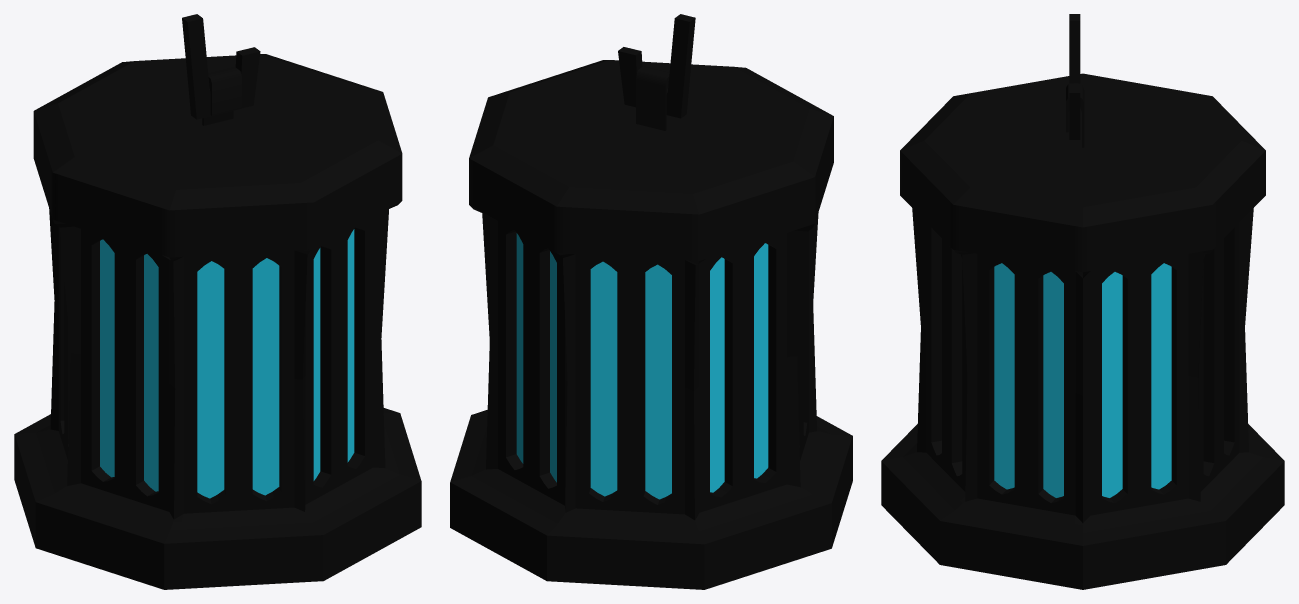
The model's file is LANTERN_MESH.fbx.
3 renders of one model, left to right at view 1: azimuth 30°, elevation 25°; view 2: azimuth 150°, elevation 25°; view 3: azimuth 270°, elevation 25°, orthographic. The views are drawn at different scales.
Visible parts, largest first — view 1: LANTERN_MESH; view 2: LANTERN_MESH; view 3: LANTERN_MESH.
Part boxes in pixels (<box>): LANTERN_MESH: <box>14,14,421,589</box>; LANTERN_MESH: <box>450,14,852,589</box>; LANTERN_MESH: <box>881,14,1284,589</box>.
Bounding box in the file's own units: 1.59 × 2.11 × 1.6.
